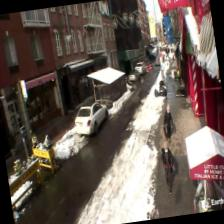person: (159, 140, 178, 195), (160, 104, 176, 142)
